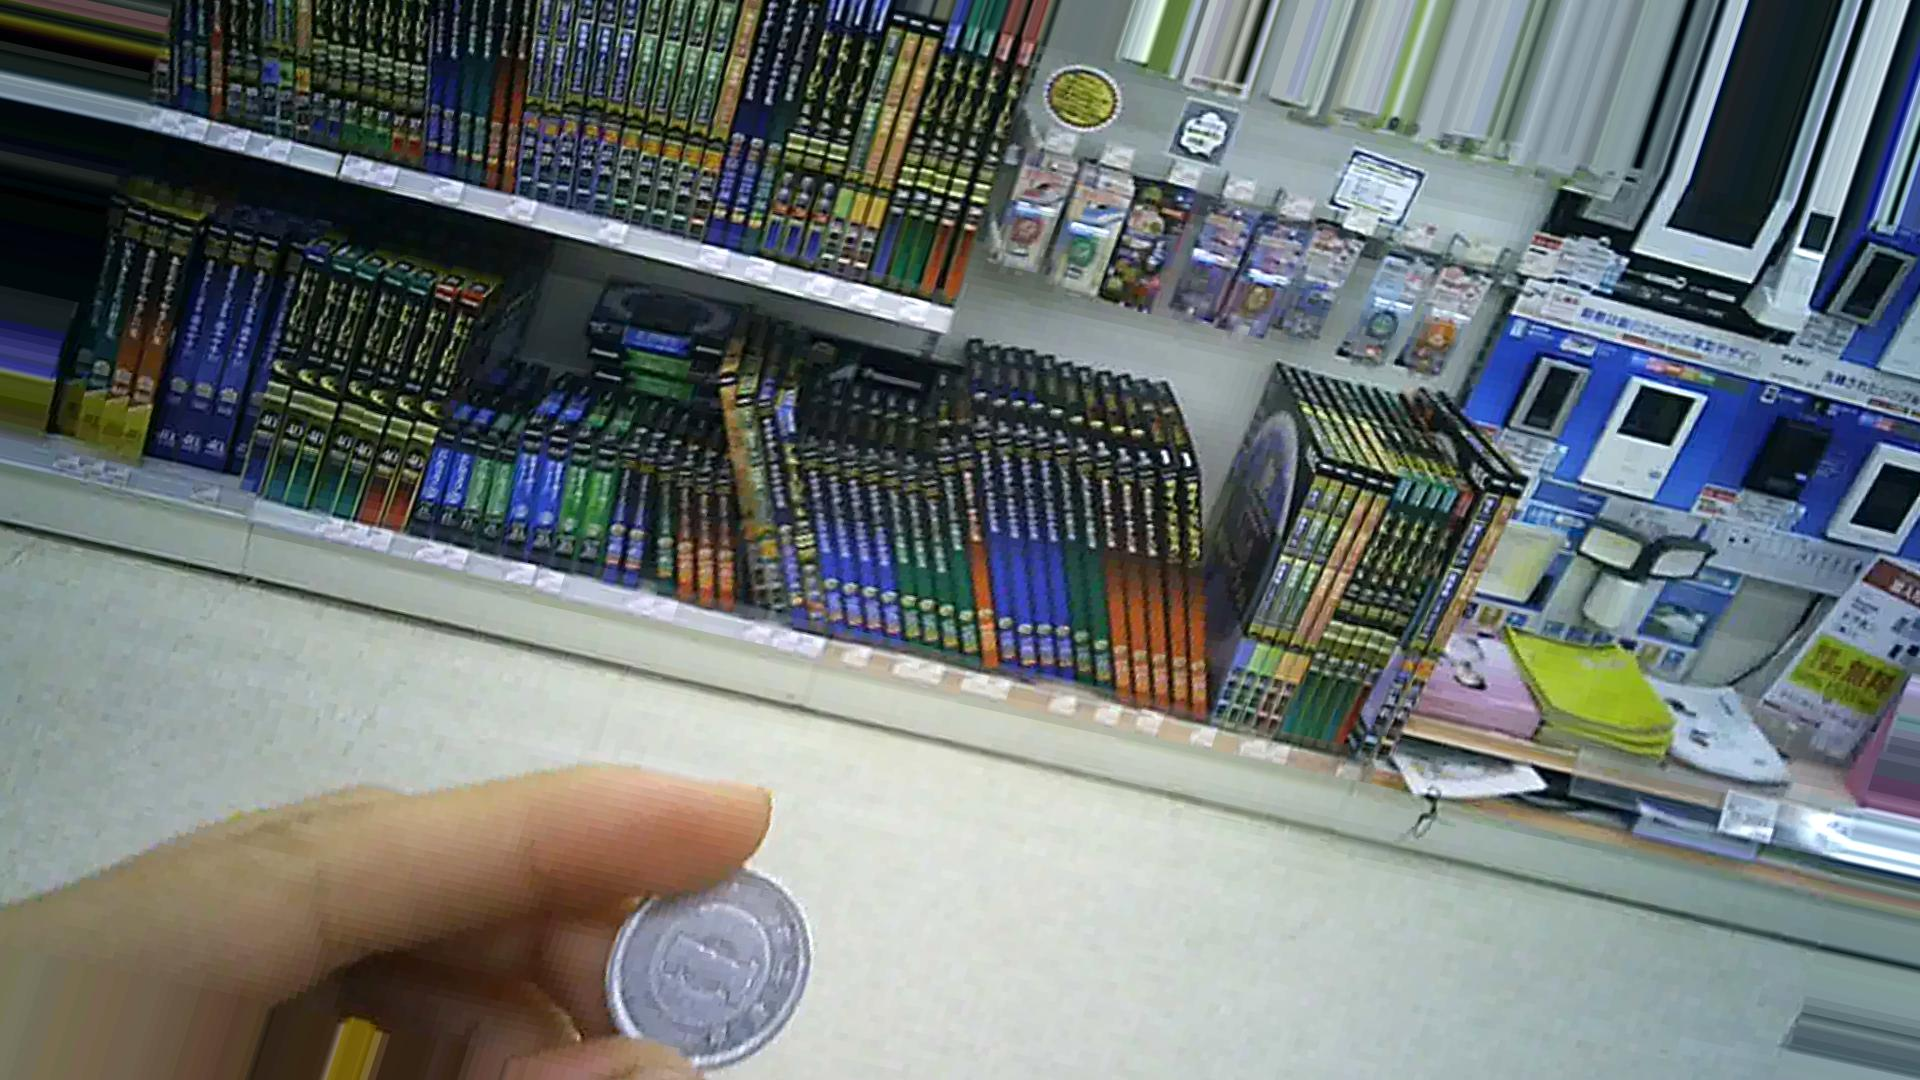1 Yen: (601, 832, 840, 1071)
